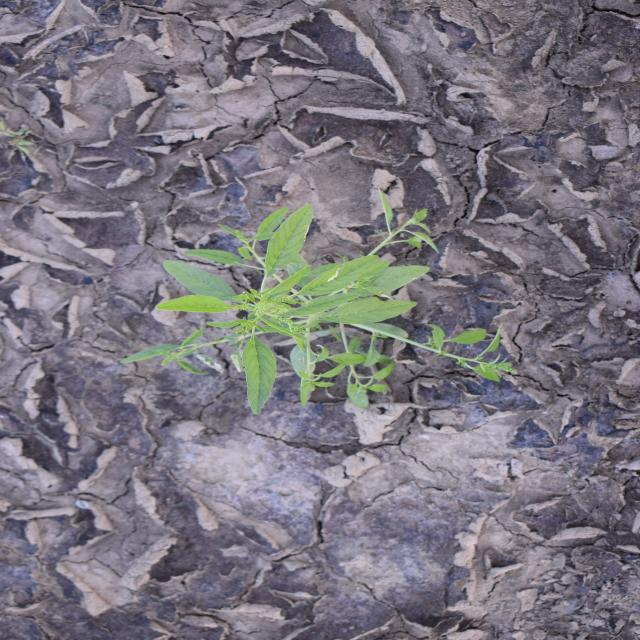Waterhemp: (121, 187, 520, 416)
